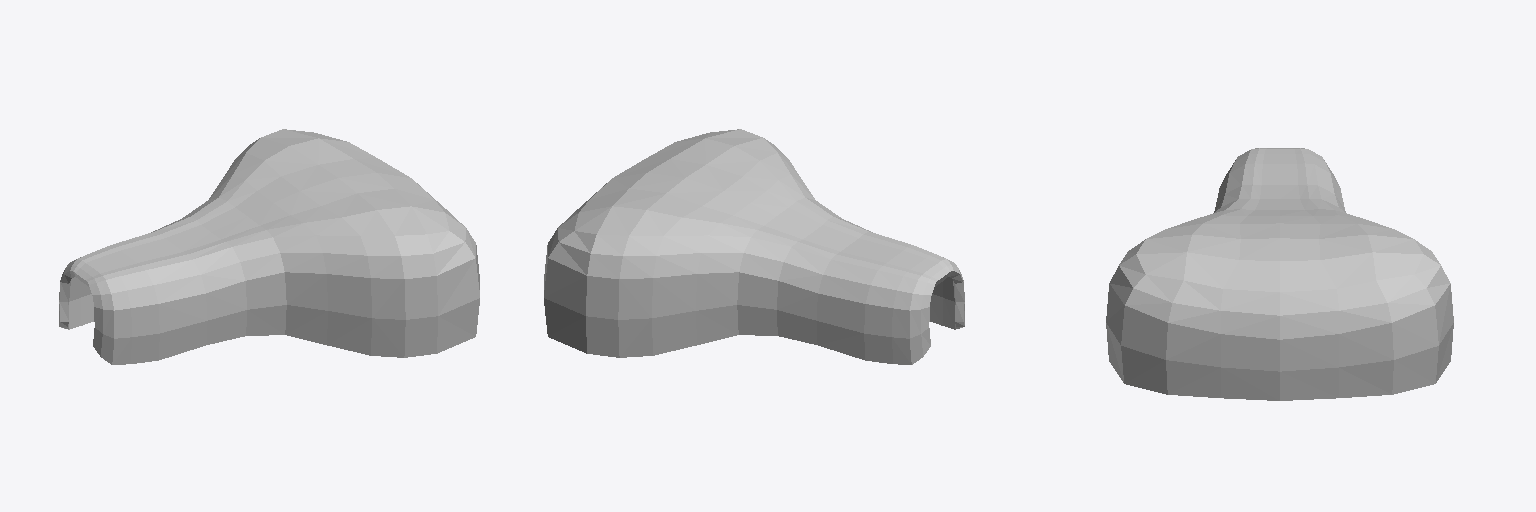
The model's file is saddle.obj.
The picture shows the model from 3 angles: view 1: azimuth 30°, elevation 25°; view 2: azimuth 150°, elevation 25°; view 3: azimuth 270°, elevation 25°; orthographic projection.
Visible parts, largest first — view 1: objBox01; view 2: objBox01; view 3: objBox01.
Boxes of the visible parts, box(x1,y1,x2,y2) form: objBox01: box(59, 129, 479, 364); objBox01: box(544, 129, 964, 364); objBox01: box(1106, 148, 1453, 400).
Bounding box in the file's own units: 0.7753 × 0.2446 × 0.6516.